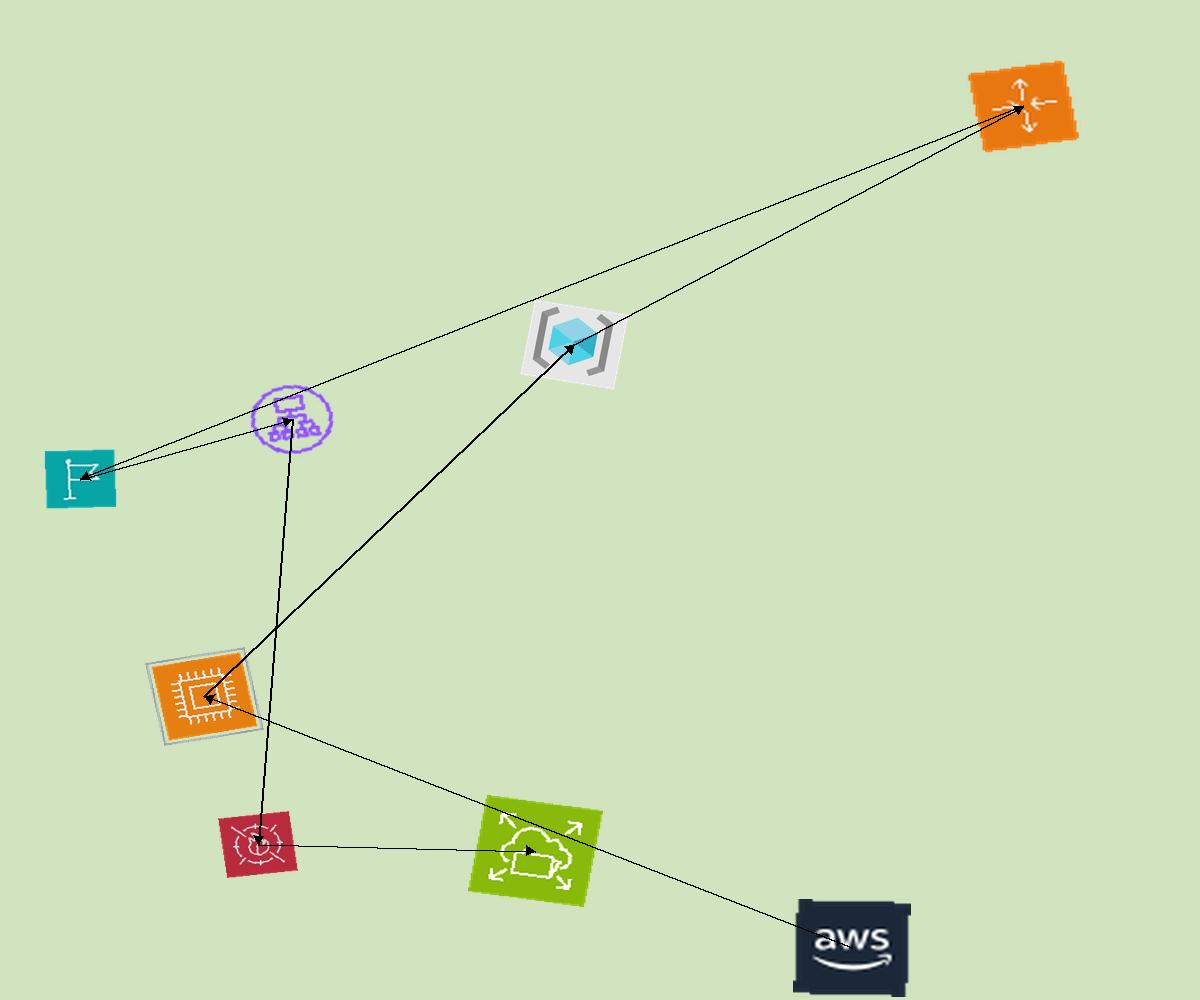AWS-Category_Compute: (145, 647, 264, 746)
AWS-Cloud-logo: (793, 899, 911, 997)
AWS-EFS: (468, 795, 603, 907)
AWS-Region: (44, 449, 117, 509)
AWS-Res_Elastic-Load-Balancing_Application-Load-Balancer: (240, 376, 344, 463)
AWS-Scaling-group: (966, 59, 1081, 154)
AWS-WAF: (218, 811, 298, 878)
Azure_resource_group: (520, 299, 629, 390)
